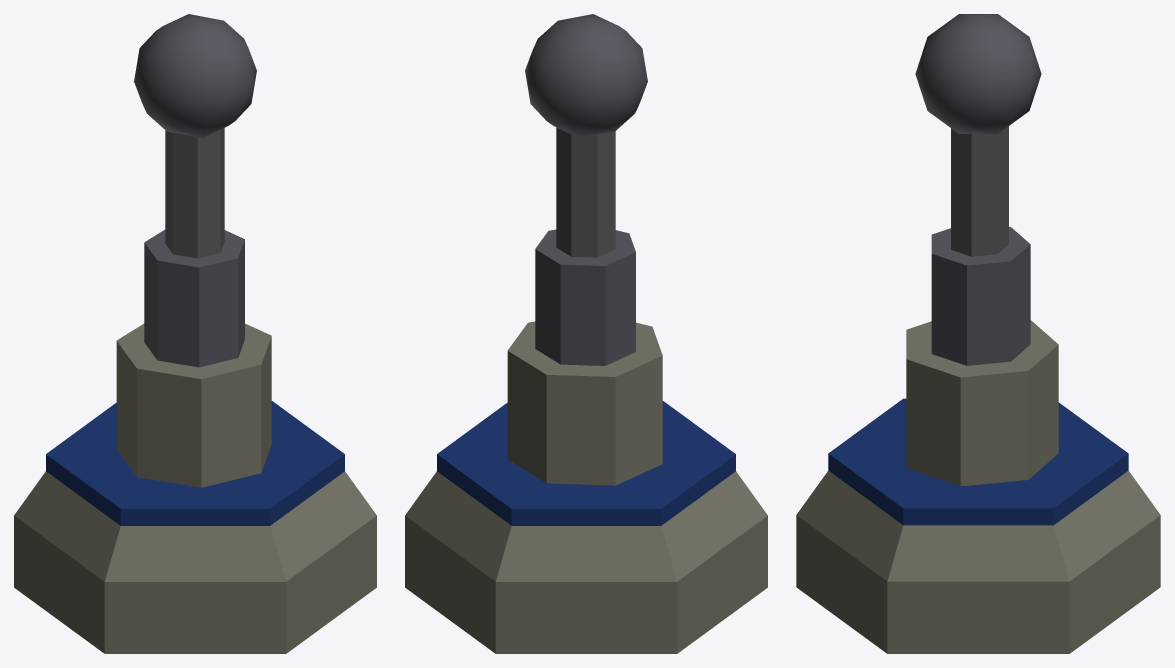
The model's file is LPSciFi_SatelliteDishMount.fbx.
The picture shows the model from 3 angles, left to right: view 1: azimuth 30°, elevation 25°; view 2: azimuth 150°, elevation 25°; view 3: azimuth 270°, elevation 25°; orthographic projection.
Parts seen in each view (by area): view 1: SatelliteDishMount; view 2: SatelliteDishMount; view 3: SatelliteDishMount.
Boxes of the visible parts, box(x1,y1,x2,y2) form: SatelliteDishMount: box(14, 14, 376, 653); SatelliteDishMount: box(405, 14, 767, 653); SatelliteDishMount: box(796, 14, 1160, 653).
Bounding box in the file's own units: 169 × 337 × 195.
